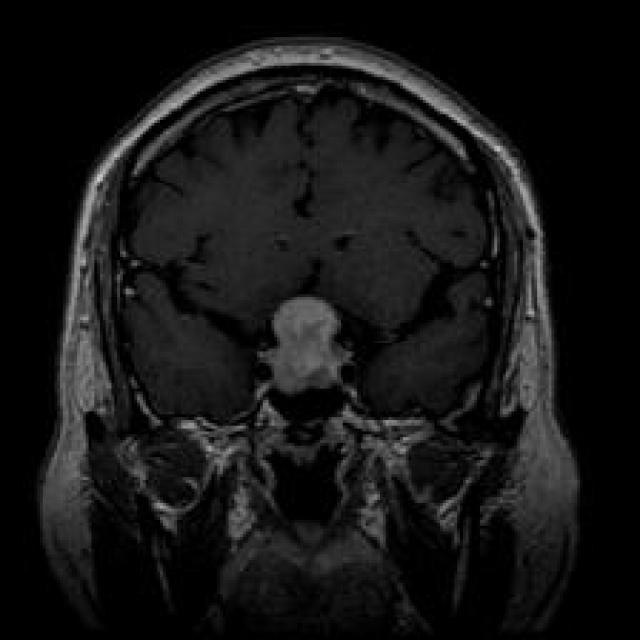pituitary_tumor: (238, 283, 380, 412)
